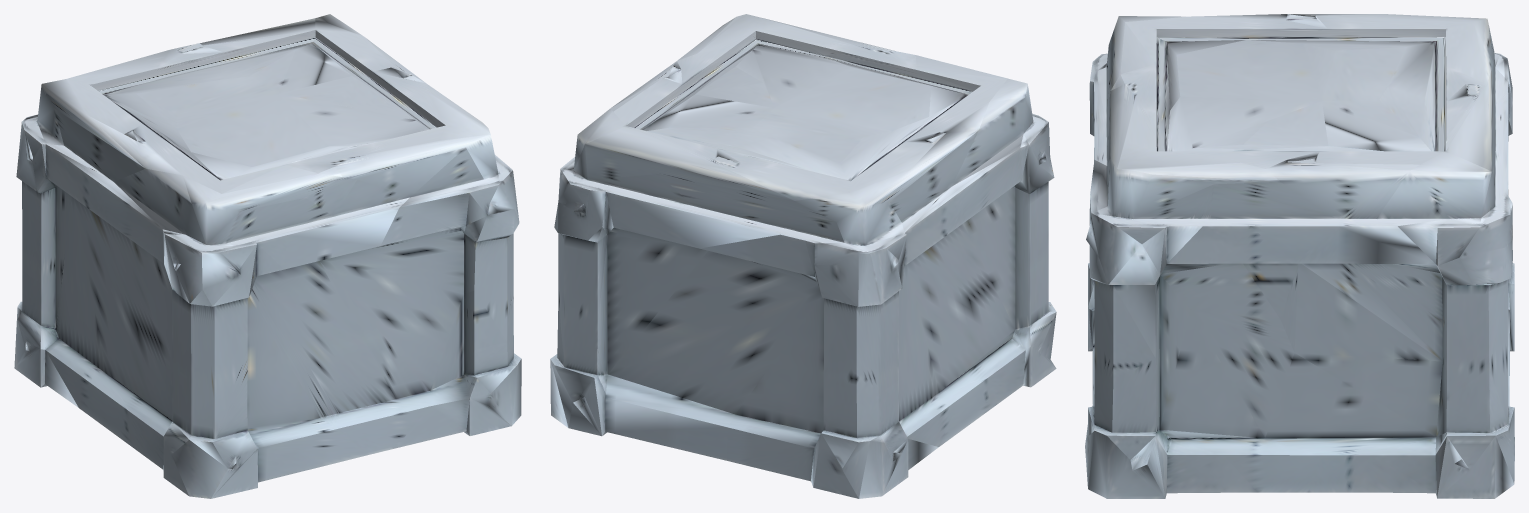
The model's file is cover_half_snow_v1_lod1.glb.
3 views of the same model, side by side, from view 1: azimuth 30°, elevation 25°; view 2: azimuth 150°, elevation 25°; view 3: azimuth 270°, elevation 25° (orthographic). The views are drawn at different scales.
Size of the model in its own units: 0.9772 by 0.7999 by 0.9715.
1 material, 1 textured.
